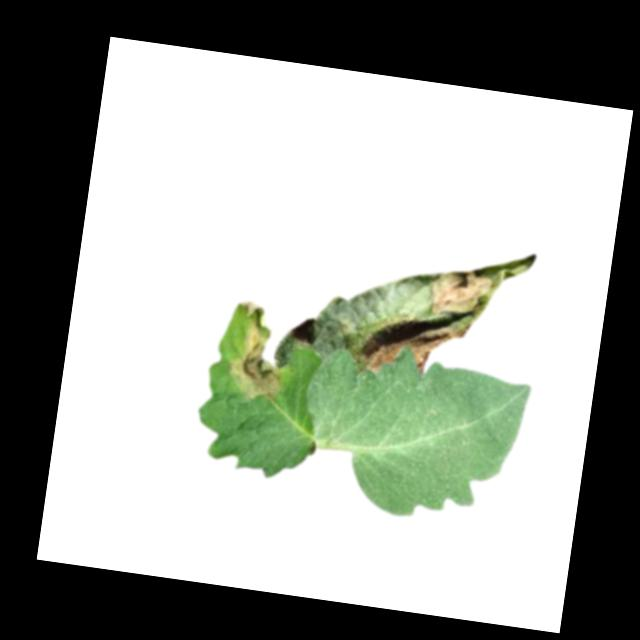Late_blight: (220, 298, 296, 406), (356, 315, 469, 383), (427, 265, 497, 324)
healthy: (290, 334, 534, 533)
